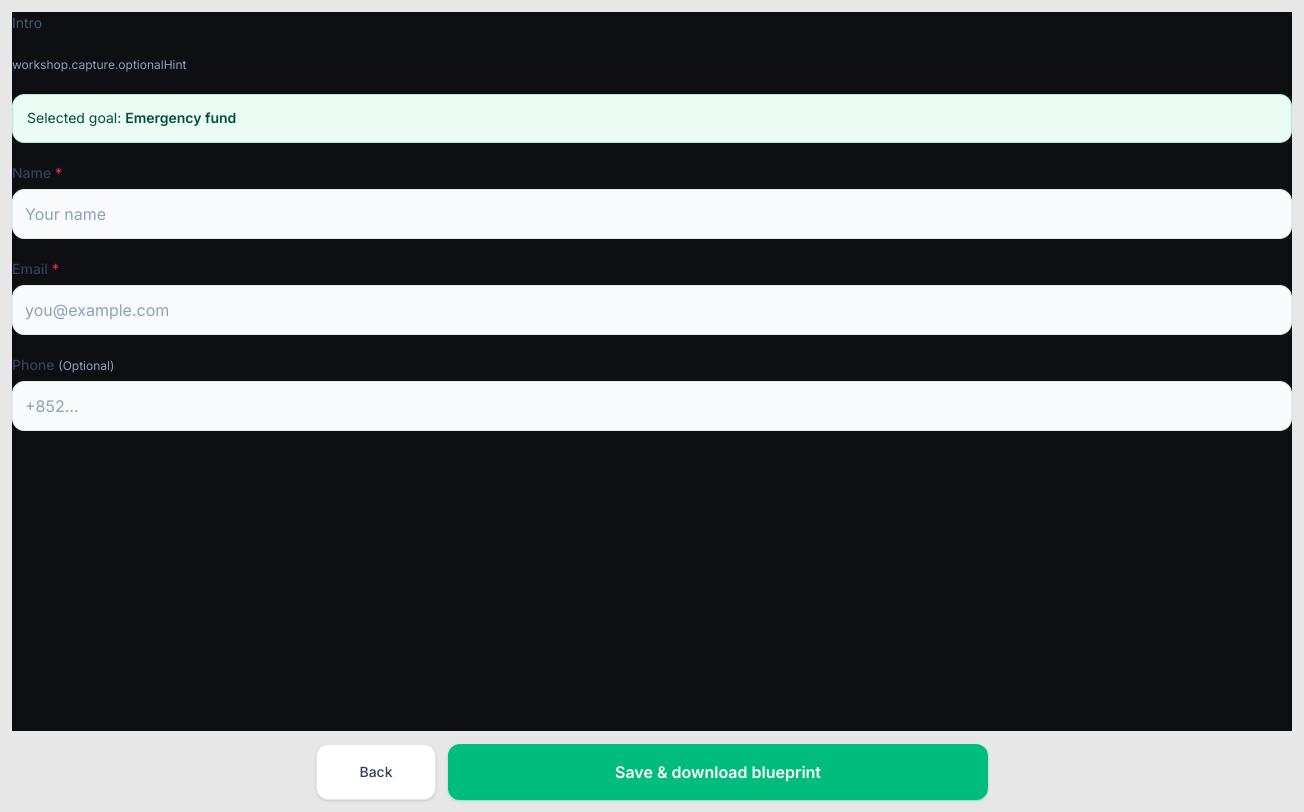
Test case: WorkshopCaptureStep mobile field attrs › shows phone validation inline while typing
Type "12" into the field labelled "Phone (Optional)". click: (652, 406)
box: top-left (12, 381), bottom-right (1292, 431)
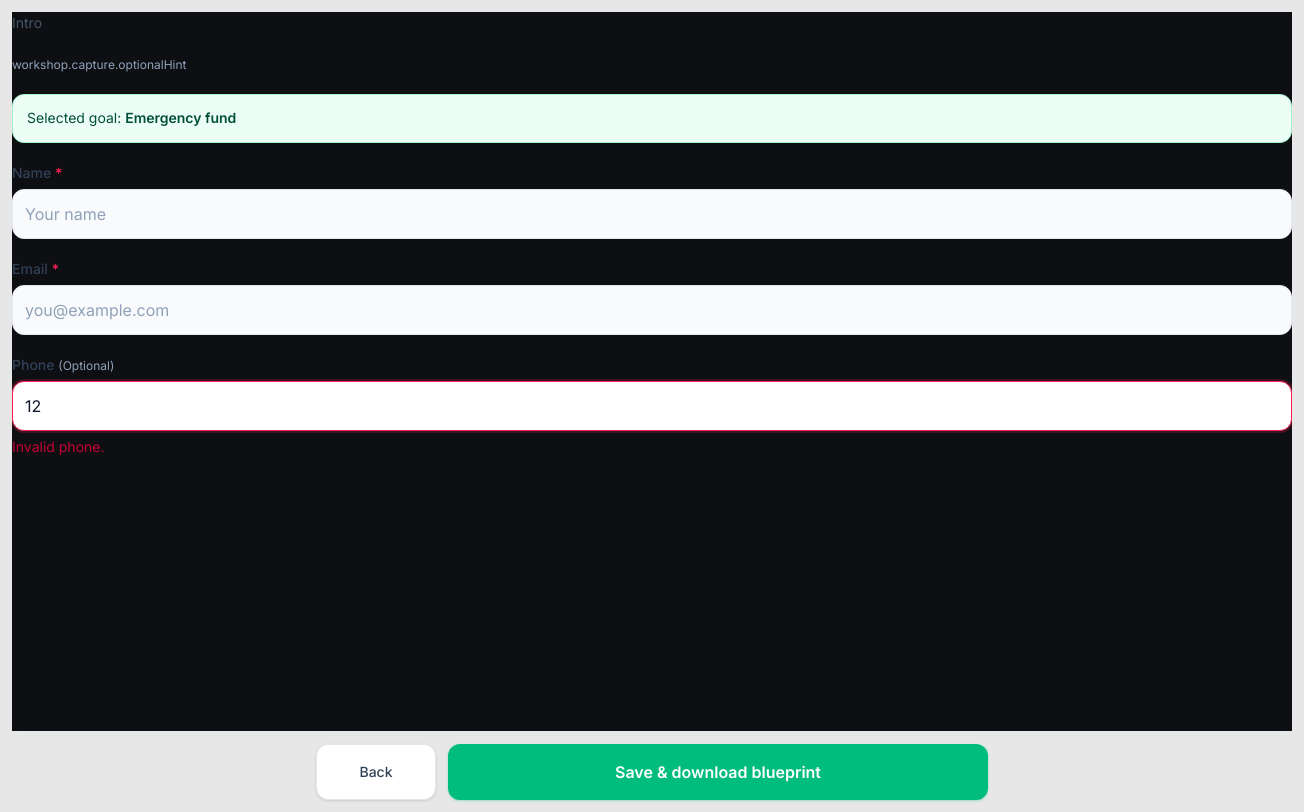
Check: the message "Invalid phone." is shown, box top-left (12, 438), bottom-right (104, 455)
